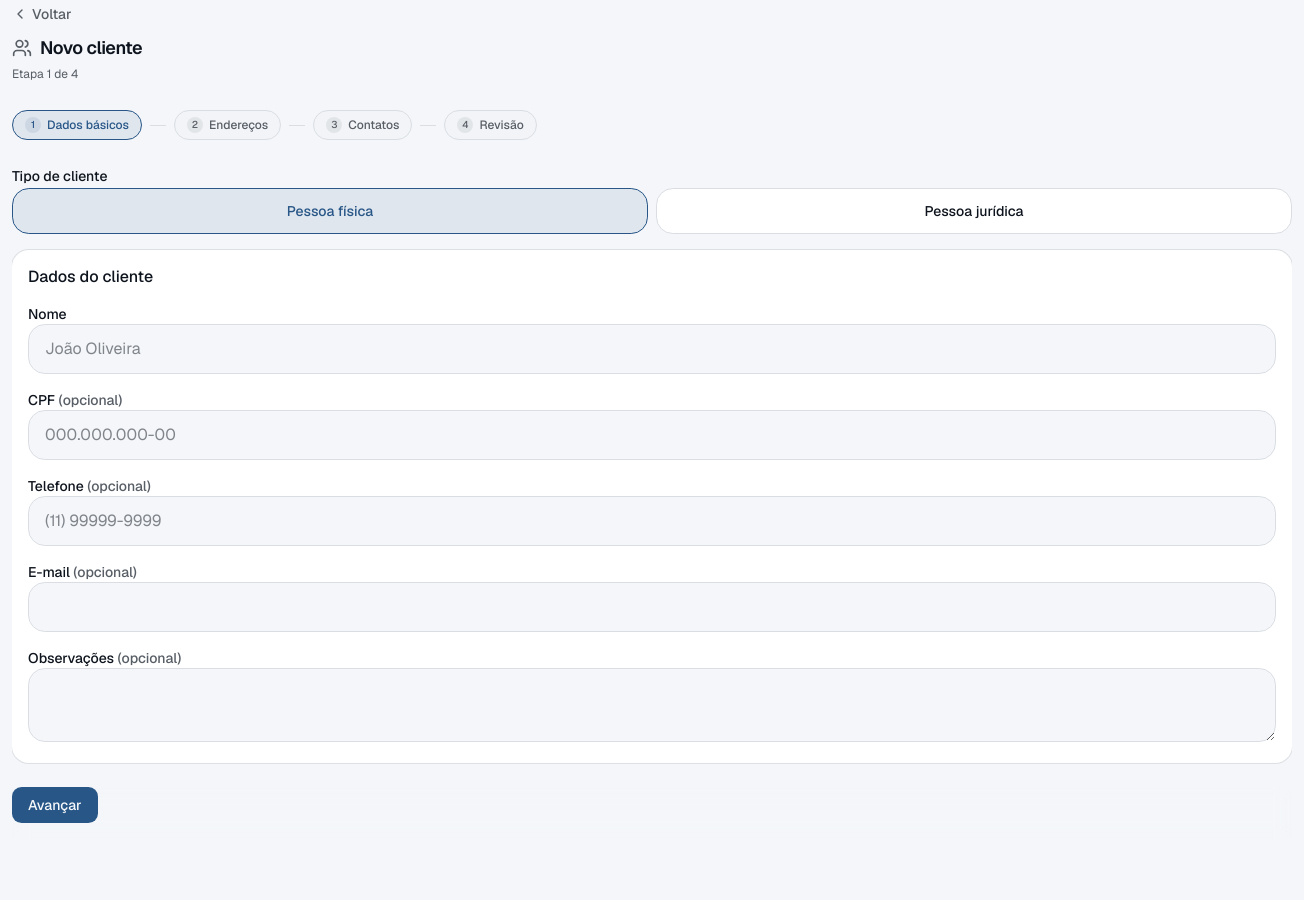
Test case: CustomerCreateForm (4-step wizard) › step flow › blocks advancing with an empty name and shows an inline error
Step 1. Click the button "Avançar" → (55, 805), box [12,787,98,823]
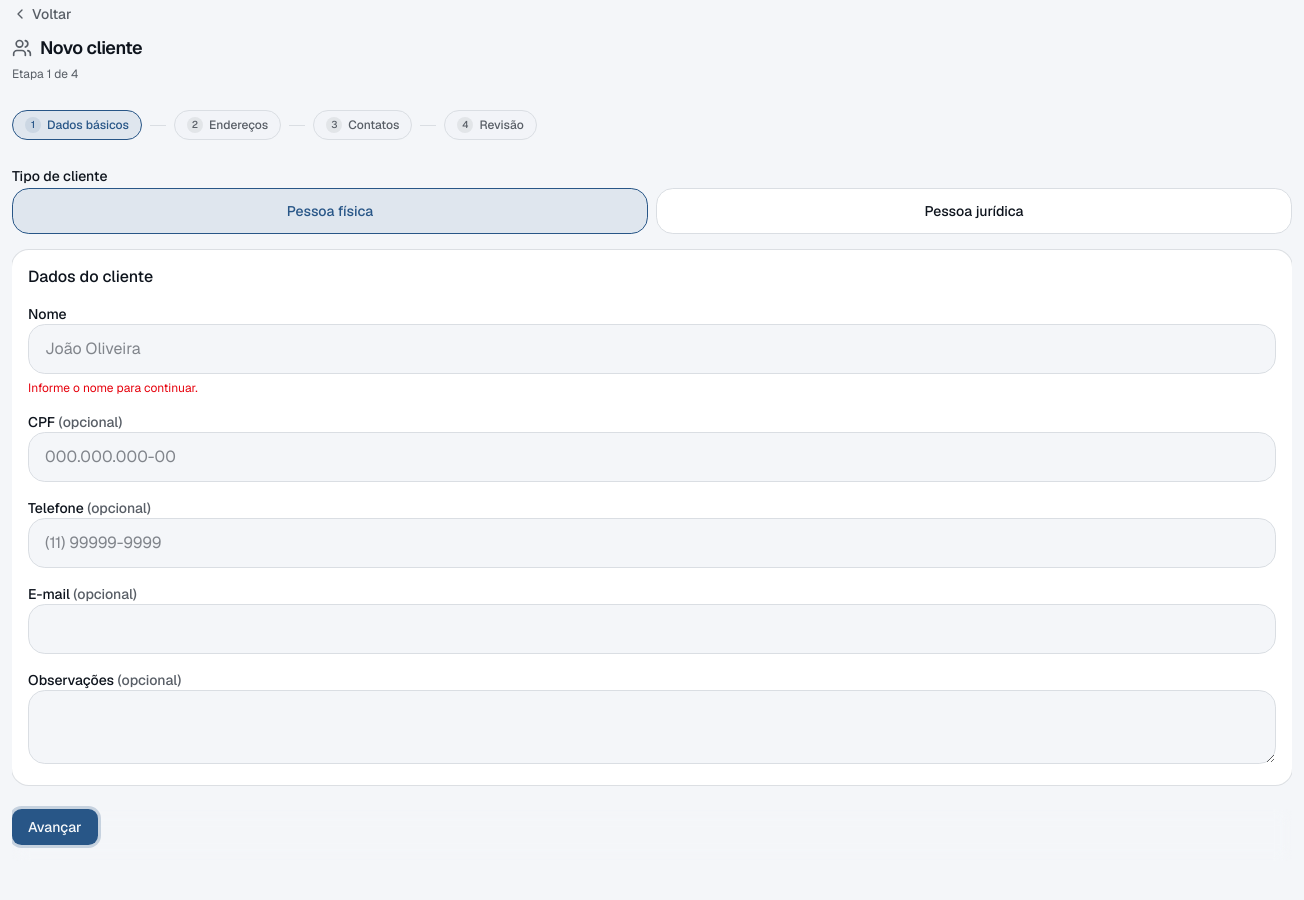
Check: the text "Etapa 1 de 4" is shown, box [12,66,78,82]
Check: the text "Informe o nome para continuar." is shown, box [28,380,198,396]
